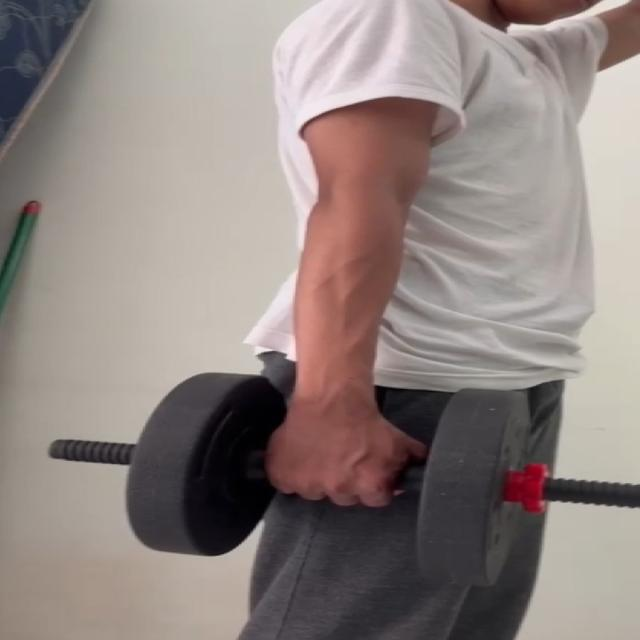hammer: (118, 369, 541, 592)
